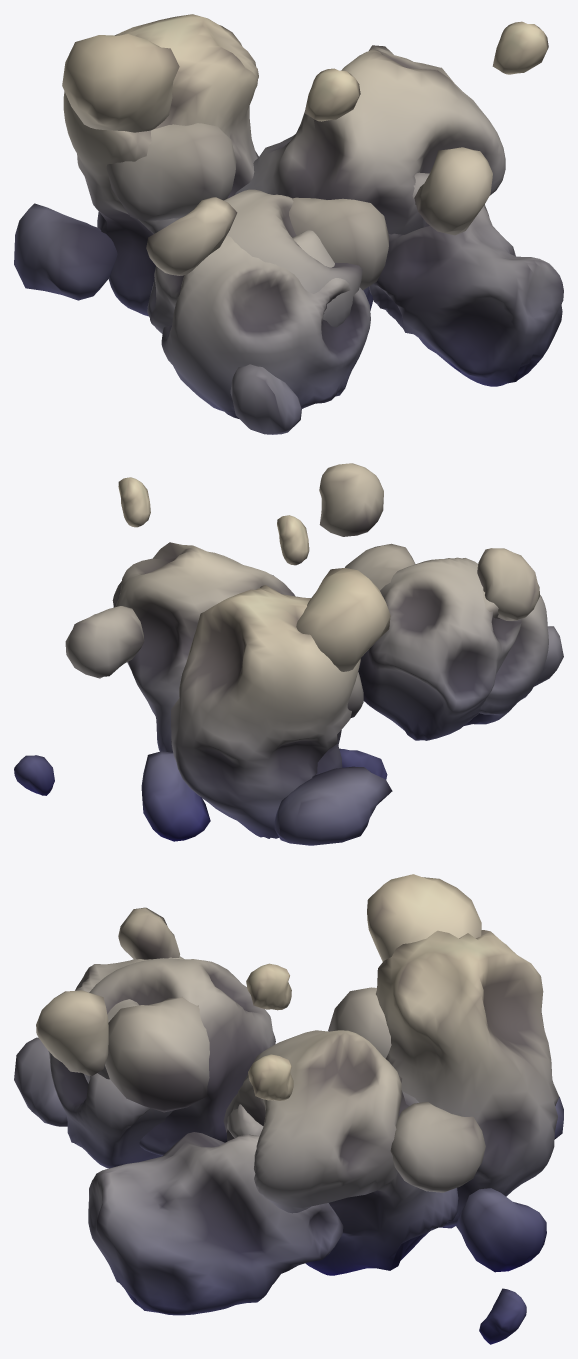
File: Astroids.fbx
The picture shows the model from 3 angles, top to bottom: view 1: azimuth 30°, elevation 25°; view 2: azimuth 150°, elevation 25°; view 3: azimuth 270°, elevation 25°; orthographic projection. The views are drawn at different scales.
Visible parts, largest first — view 1: Plane, Plane.002, Plane.001; view 2: Plane, Plane.002, Plane.001; view 3: Plane, Plane.002, Plane.001.
Boxes of the visible parts, left/top/right/bottom form: Plane: left=63, top=14, right=563, bottom=434; Plane.002: left=62, top=34, right=505, bottom=333; Plane.001: left=14, top=68, right=460, bottom=418; Plane: left=65, top=477, right=563, bottom=838; Plane.002: left=112, top=463, right=521, bottom=752; Plane.001: left=14, top=515, right=548, bottom=845; Plane: left=14, top=907, right=559, bottom=1315; Plane.002: left=36, top=874, right=481, bottom=1275; Plane.001: left=48, top=956, right=563, bottom=1344.
Bounding box in the file's own units: 89.75 × 65.58 × 96.78.
